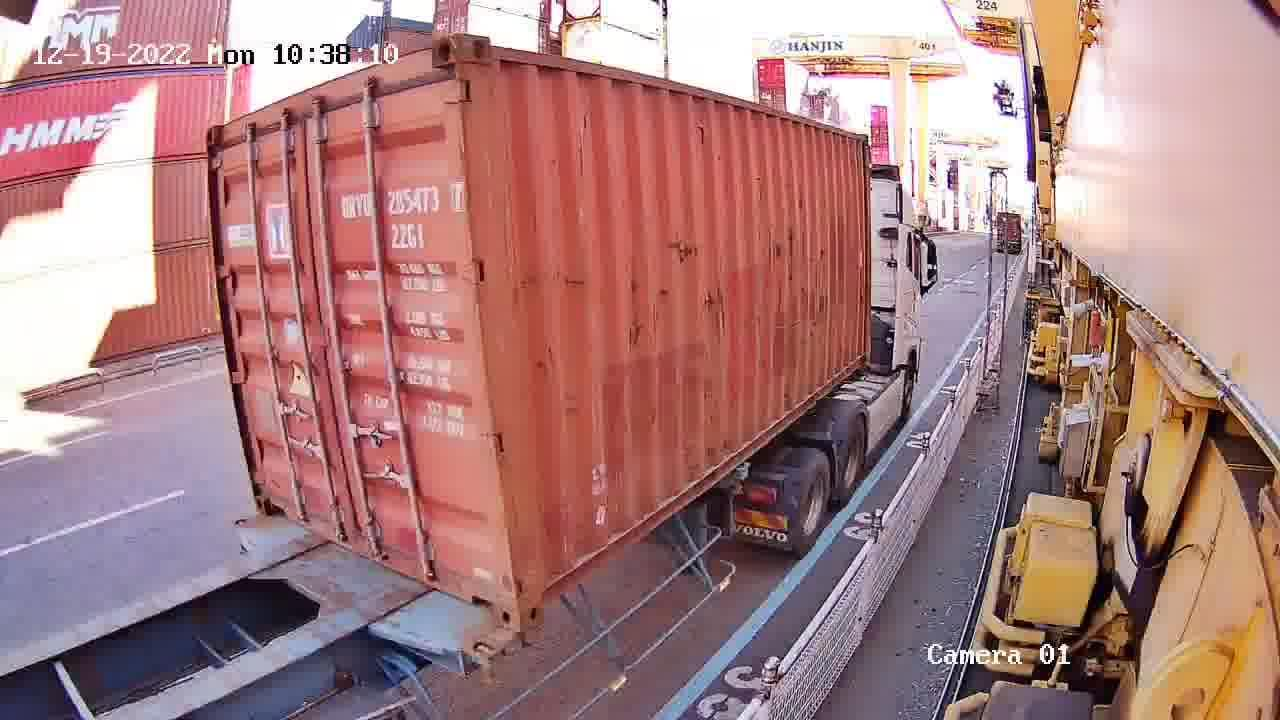Chassis: (239, 521, 493, 662), (261, 509, 531, 641)
Cone: (472, 644, 500, 688), (518, 624, 545, 652)
Hole_L: (512, 543, 563, 629), (247, 472, 292, 525)
Hole_R: (462, 553, 518, 630)
Tire: (791, 458, 832, 547), (840, 421, 866, 490)
